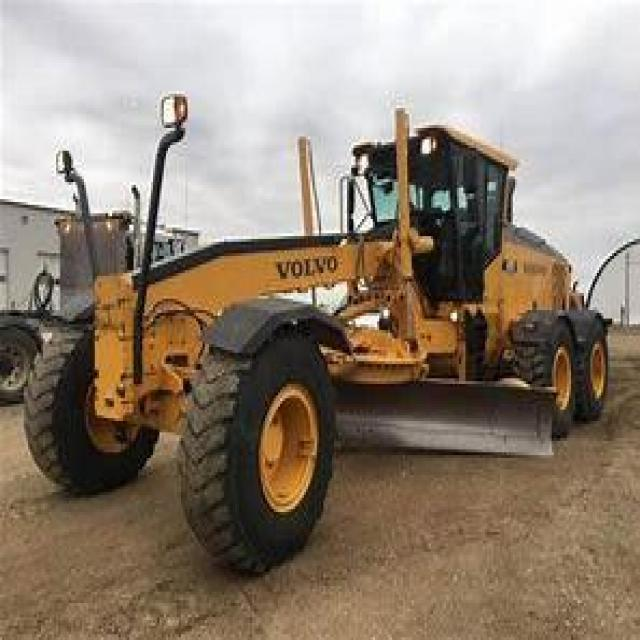Grader: (24, 97, 625, 580)
